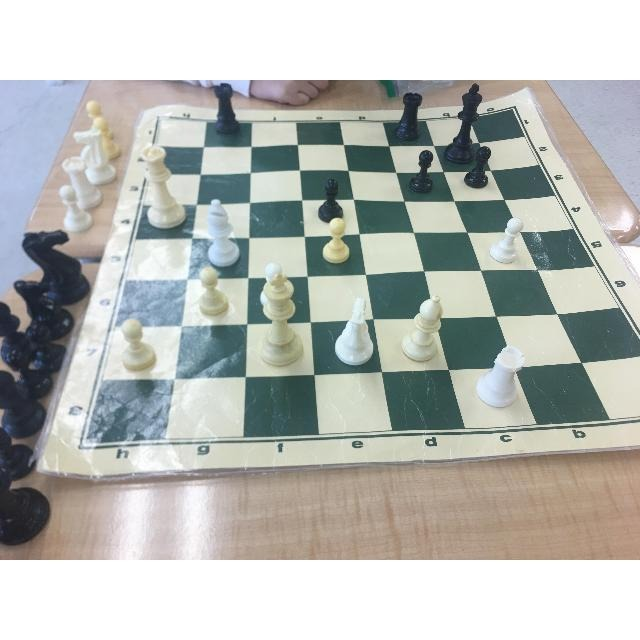black-king: (450, 80, 486, 158)
black-pawn: (463, 141, 506, 185), (320, 163, 348, 223), (406, 142, 437, 174)
black-rook: (206, 80, 258, 143), (400, 89, 426, 145)
white-bishop: (396, 292, 454, 366), (199, 189, 249, 267)
white-king: (255, 263, 309, 381)
white-knight: (334, 293, 376, 371)
white-pawn: (107, 306, 165, 368), (315, 213, 365, 264), (190, 263, 234, 317), (493, 209, 523, 266)
white-queen: (134, 136, 186, 227)
white-rook: (475, 341, 528, 413)
